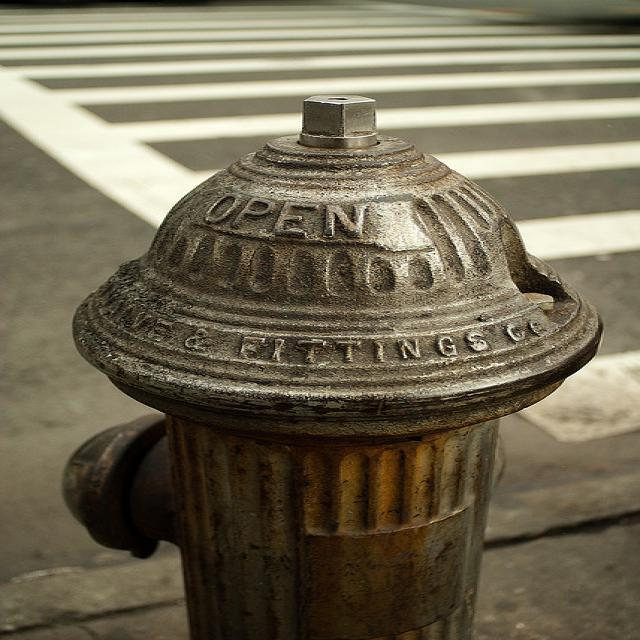fire_hydrant: (61, 90, 598, 631)
